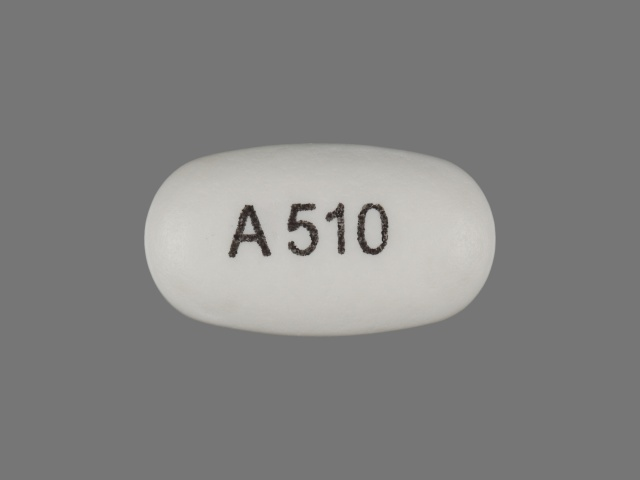0: (351, 199, 393, 259)
1: (321, 202, 351, 262)
5: (282, 202, 323, 261)
A: (225, 202, 274, 260)
